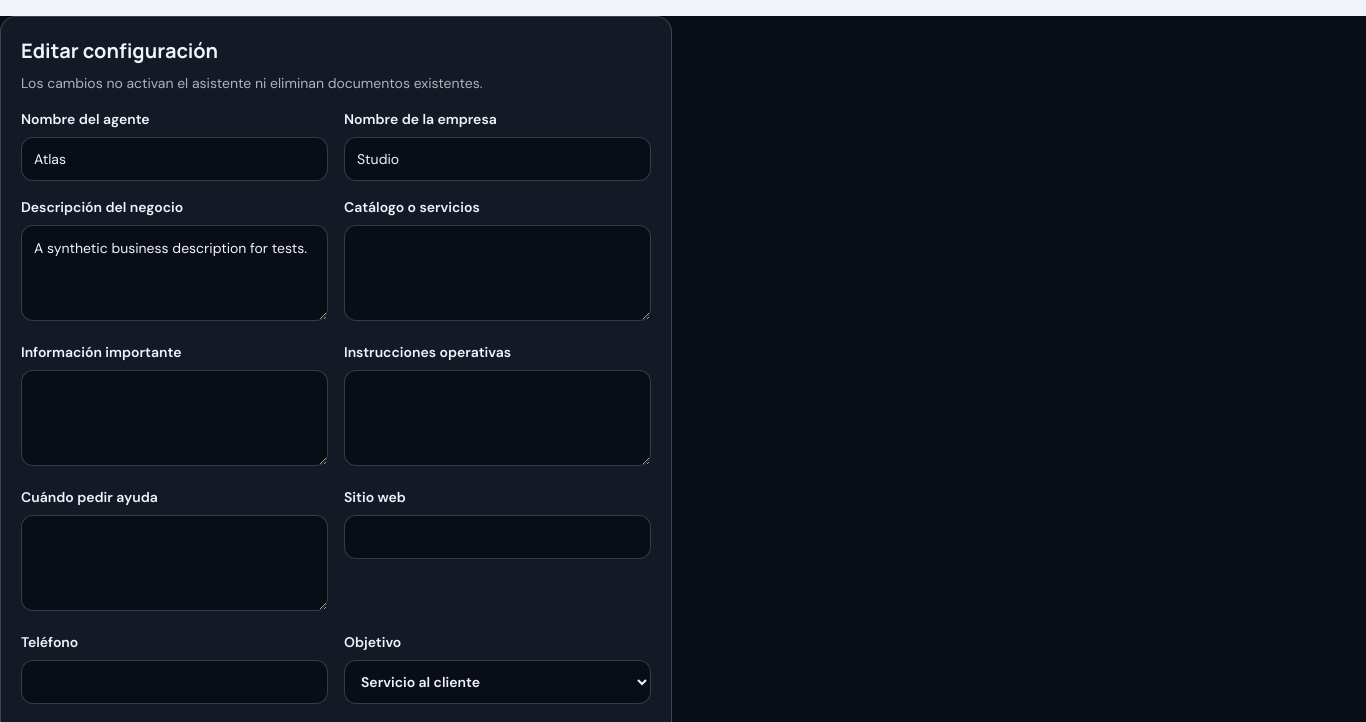
Test: existing agent editor with synthetic services › requires confirmation to discard and saves edited data once
Later steps or results of the test are not shown.
Replace the text in the field labelled "Nombre del agente" with "Nuevo". click: {"x": 174, "y": 159}
box: [21,137,328,181]
(page scrolled)
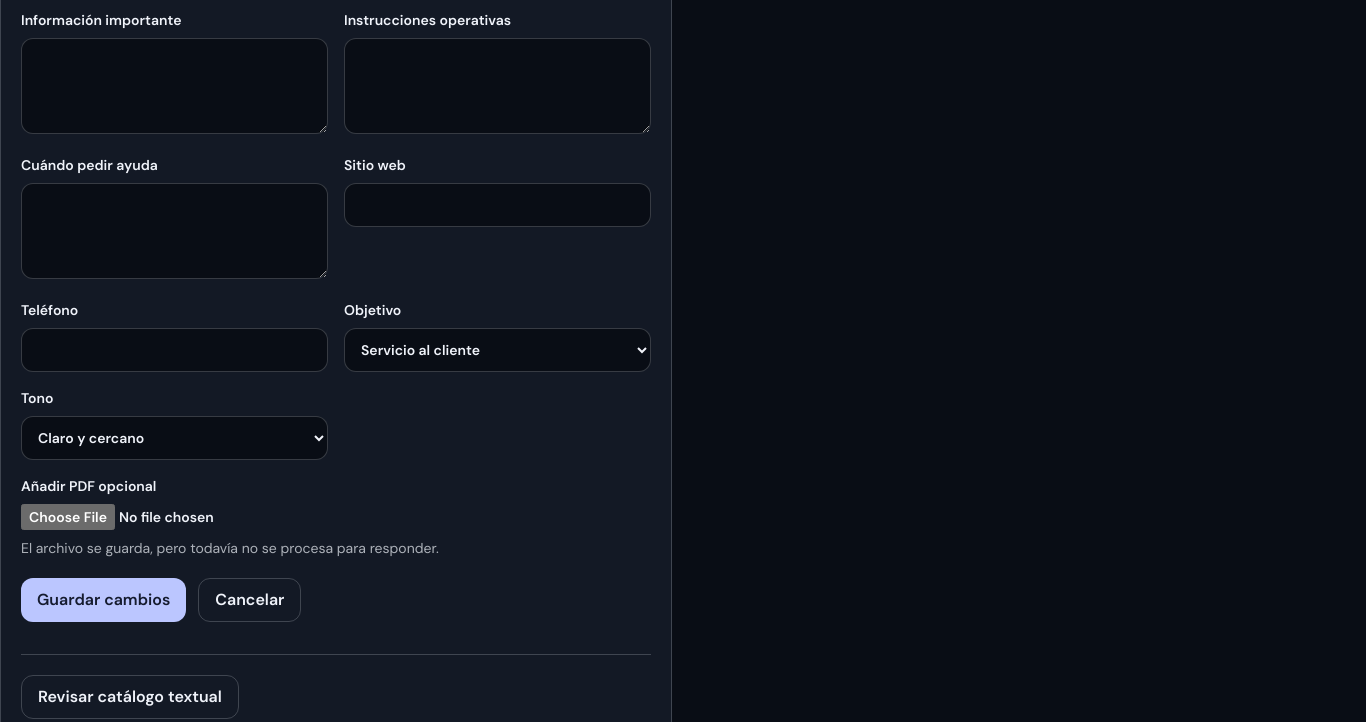
Click the button "Cancelar". click: {"x": 250, "y": 600}
box: [198,578,302,622]
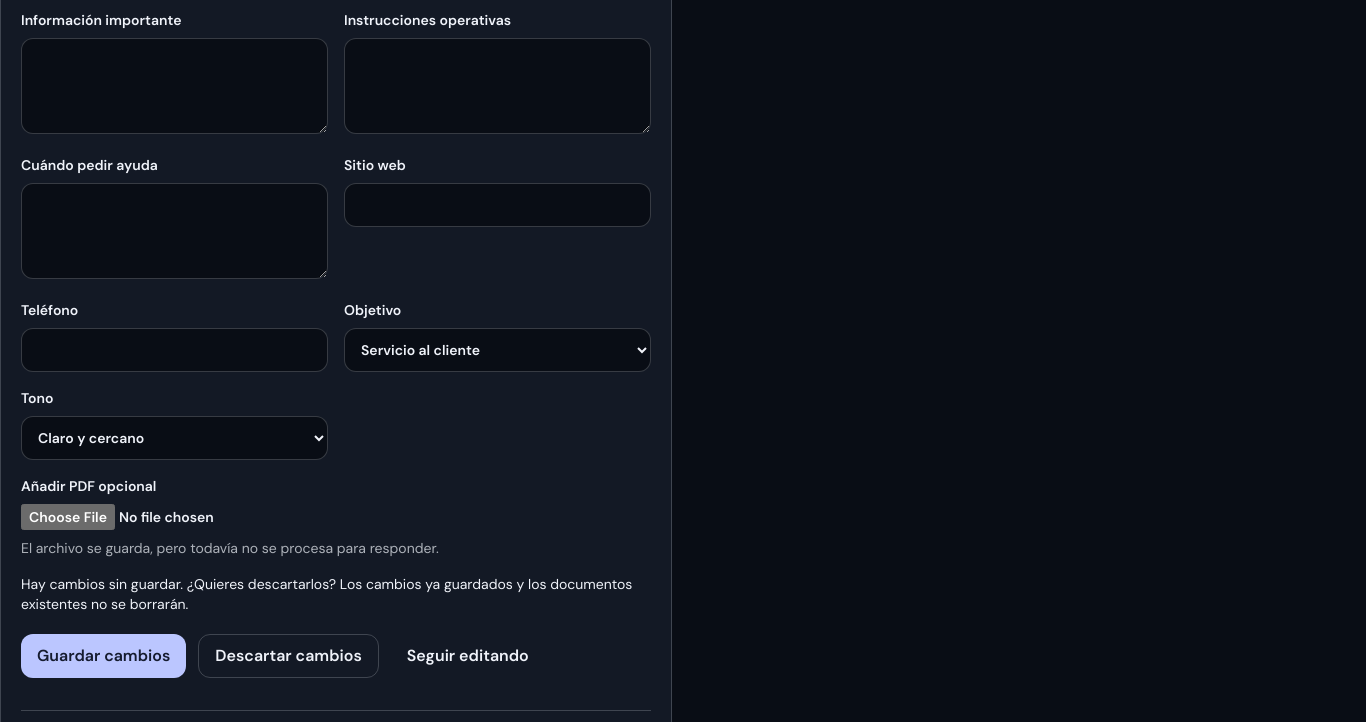
Check: the message shows "cambios sin guardar", box [21,575,632,613]
